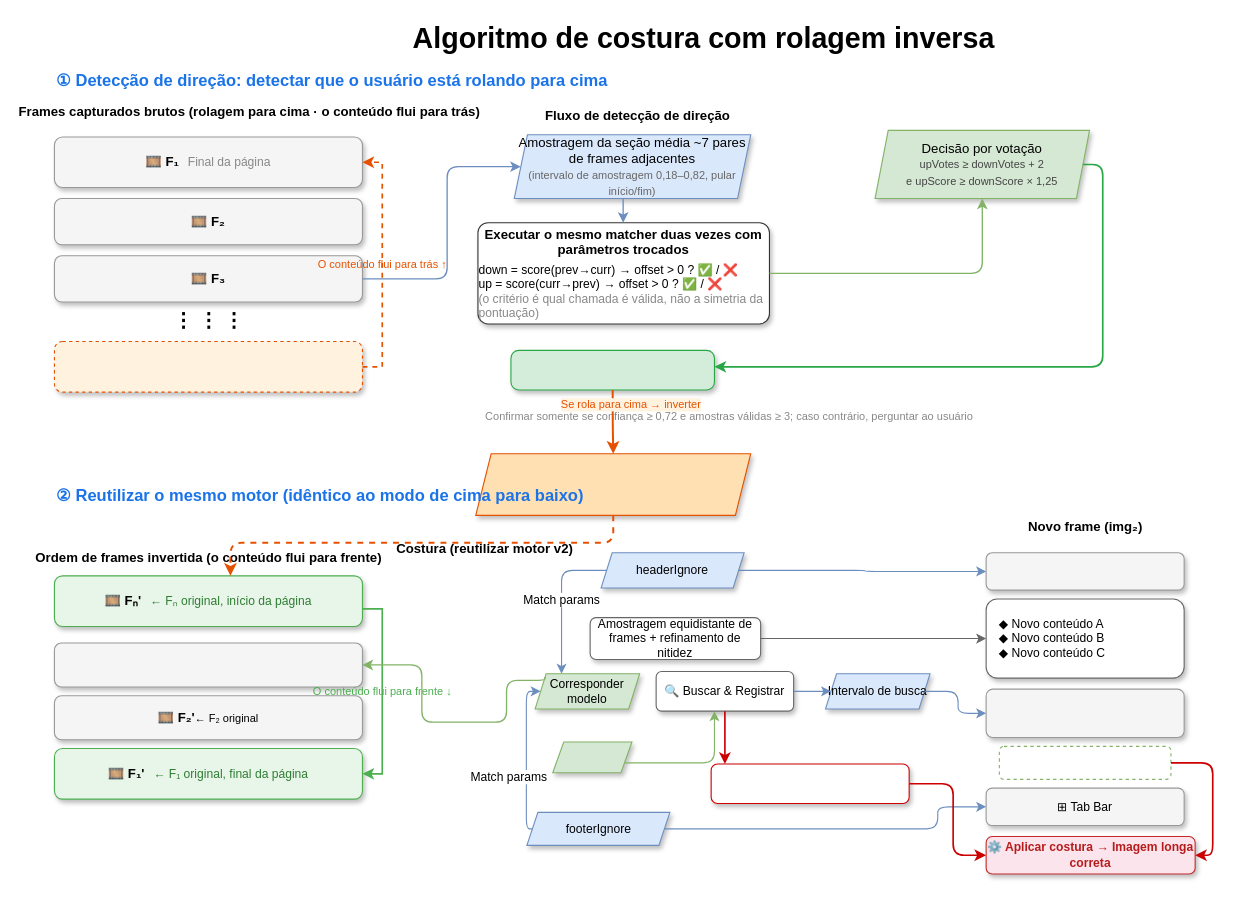
The diagram is 1242 pixels wide and 901 high, and some of its shapes have lost their labels. Each missing label, with the centre of its shape:
"Buscar" goes at [593,758].
"Conteúdo antigo ..." goes at [1086,714].
"Encontrado aqui! ✅" goes at [1084,762].
"✅ Veredito: rolando para cima" goes at [613,371].
"🎞️ F₃' ← F₃ original" goes at [209,666].
"🎞️ Fₙ Início da página" goes at [209,368].
"🎬 Barra de status / Navegação" goes at [1086,572].
"🔄 reversedForStitching() inverter ordem + renumerar" goes at [613,485].
"🔍 Deslocamento registrado (offset)" goes at [811,784].
